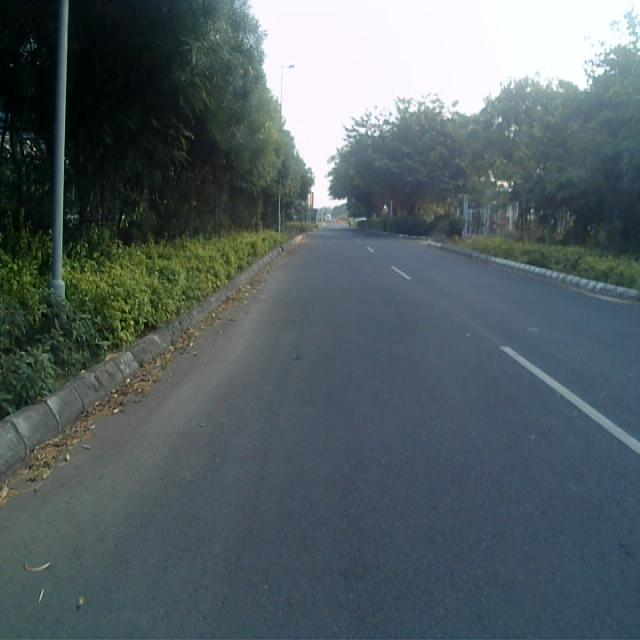lane: (0, 234, 640, 640)
